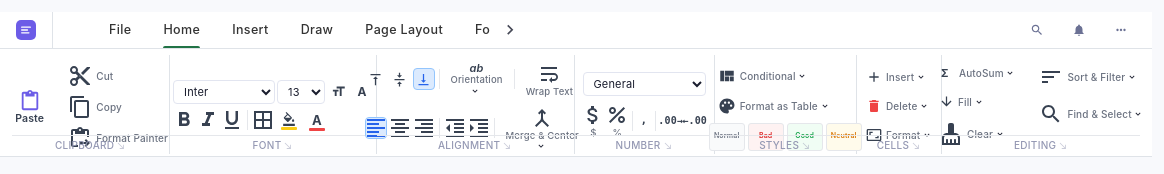
Test case: Editing Group Dropdowns › AutoSum dropdown shows Sum, Average, Count, Max, Min
Click the button "Σ AutoSum": (977, 73) [930,61,1024,85]
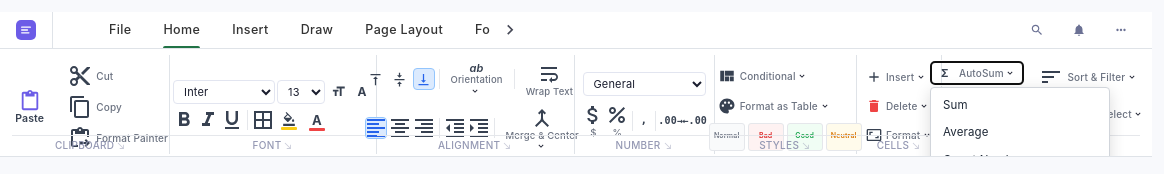
Expected: the text "Sum" is shown, [943,97,968,114]
Expected: the text "Average" is shown, [943,124,989,142]
